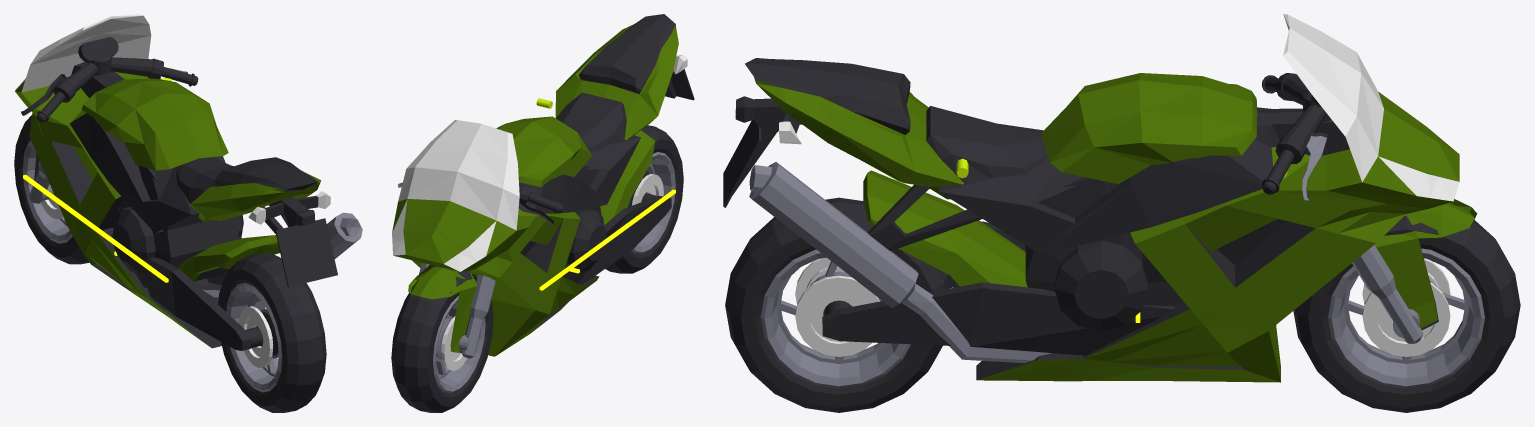
File: neon-core-lime.glb
The picture shows the model from 3 angles, left to right: view 1: azimuth 30°, elevation 25°; view 2: azimuth 150°, elevation 25°; view 3: azimuth 270°, elevation 25°; orthographic projection. The views are drawn at different scales.
Visible parts, largest first — view 1: Motorcycle, liseretAr; view 2: Motorcycle, liseretAr; view 3: Motorcycle.
Part boxes in pixels (bbox=[...]): Motorcycle: bbox=[14, 14, 362, 412]; liseretAr: bbox=[23, 174, 168, 282]; Motorcycle: bbox=[391, 14, 694, 412]; liseretAr: bbox=[539, 189, 675, 290]; Motorcycle: bbox=[723, 14, 1520, 412].
Size of the model in its own units: 0.6723 by 1.05 by 2.
5 materials, 1 textured.
